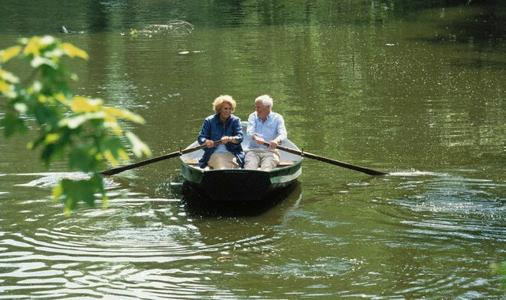person: (199, 96, 246, 171)
